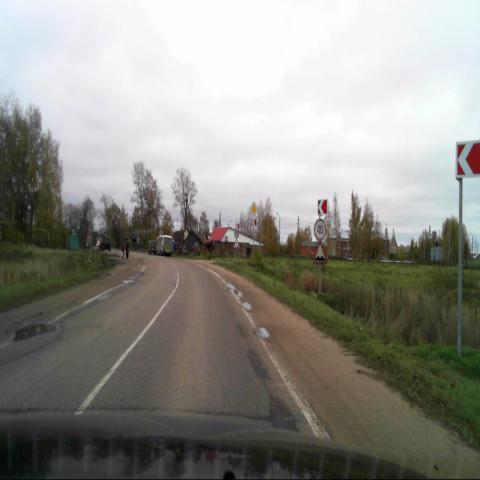1_16: (313, 241, 326, 264)
